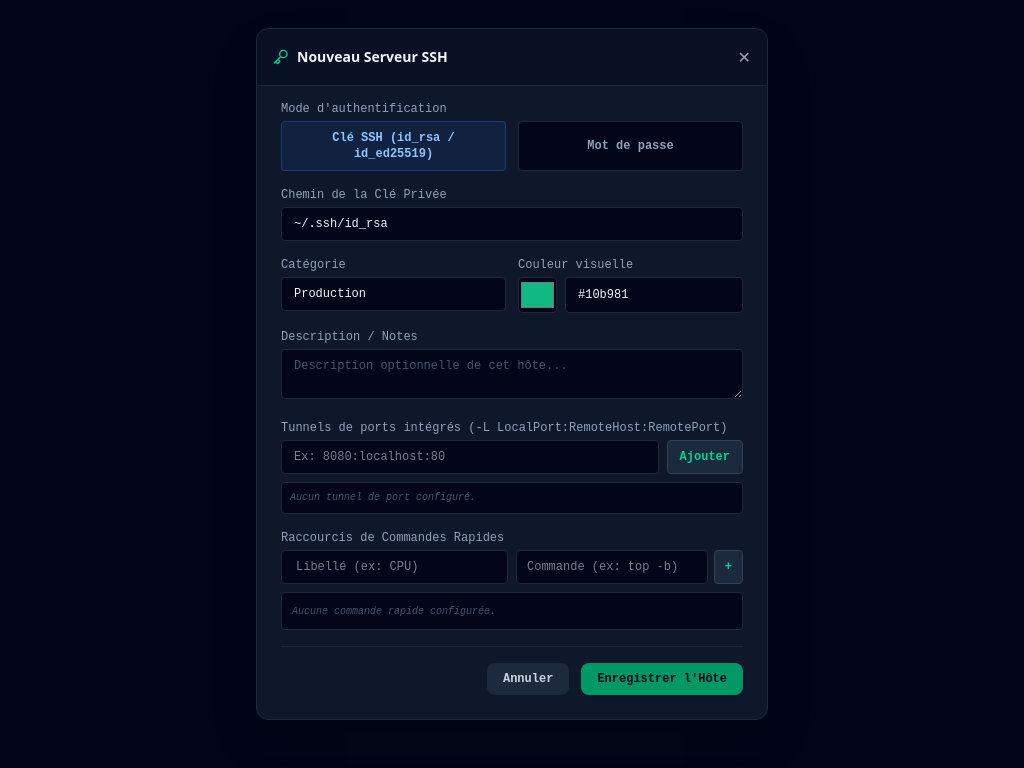
Test: SshHostFormModal › ajoute et retire une commande rapide
(page scrolled)
Type "RAM" into the field with placeholder "Libellé (ex: CPU)" at (394, 567), box [281, 550, 508, 584]
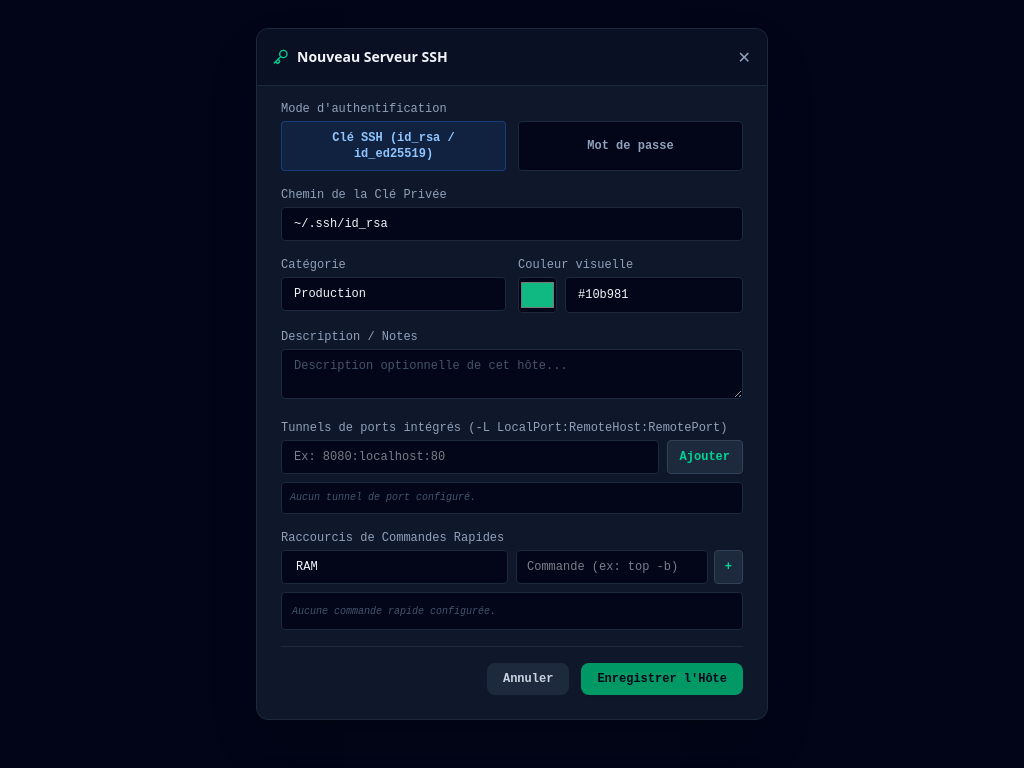
Type "free -h" into the field with placeholder "Commande (ex: top -b)" at (612, 567), box [516, 550, 708, 584]
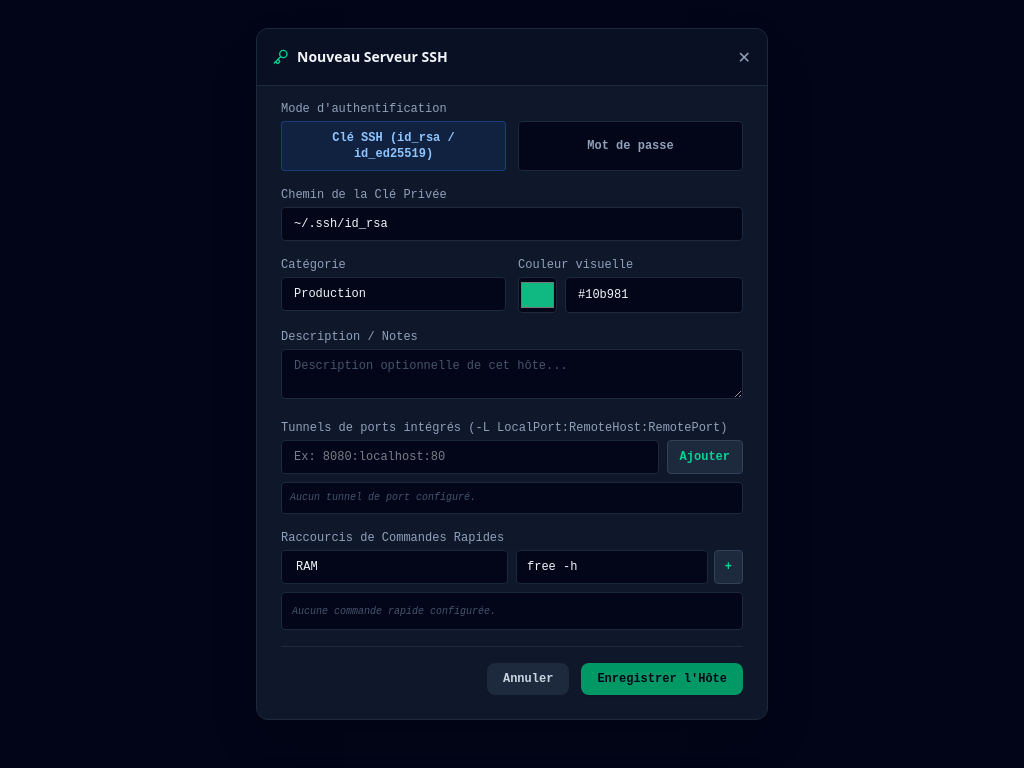
Note: Le bouton "+" du bloc commandes rapides
Click the button "+" at (728, 567), box [714, 550, 743, 584]
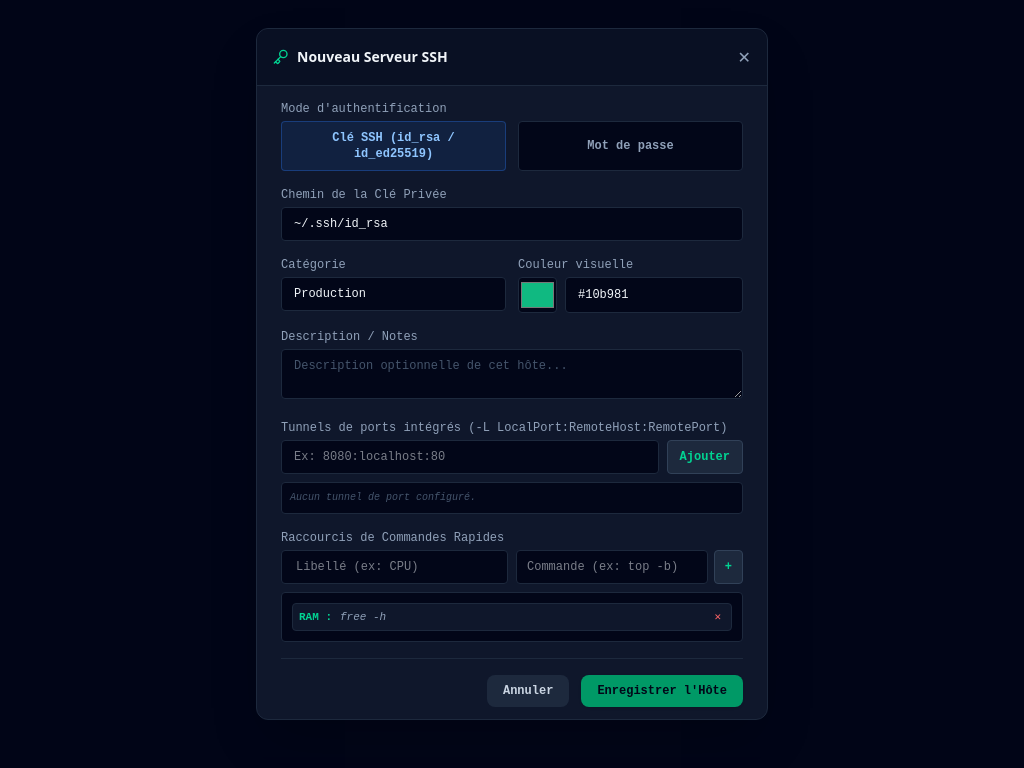
Expected: the text "RAM :" is shown, [299, 610, 332, 624]
Expected: the text "free -h" is shown, [340, 610, 386, 624]
Note: Retrait : le ✕ de la commande (2e ✕ du document, après celui du header)
Click the button "✕" in the row of "free -h" at (718, 617), box [710, 610, 725, 624]
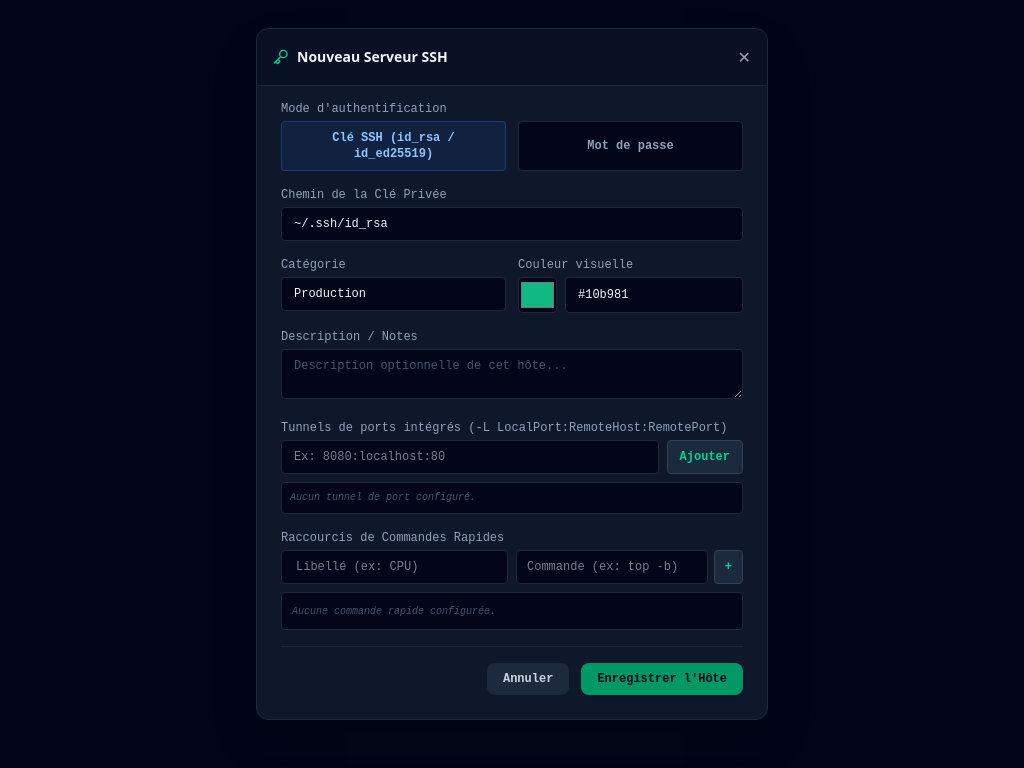
Expected: the text "RAM :" is gone
